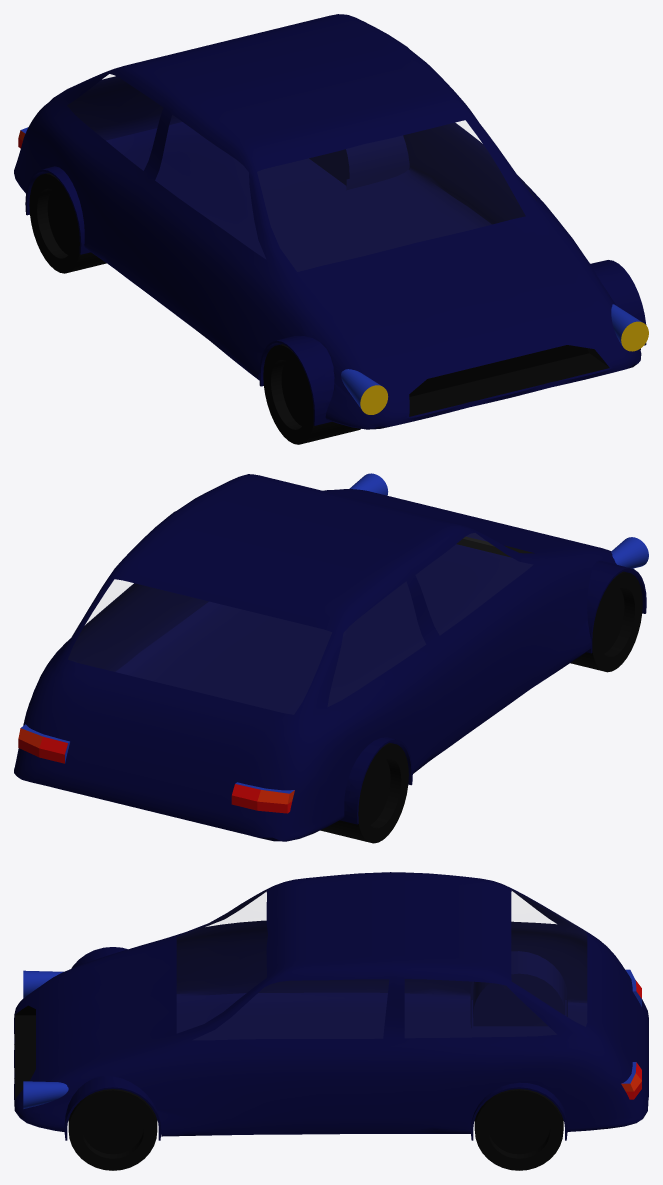
The model's file is Basic_Car_01.obj.
3 views of the same model, one above another, from view 1: azimuth 30°, elevation 25°; view 2: azimuth 150°, elevation 25°; view 3: azimuth 270°, elevation 25° (orthographic). The views are drawn at different scales.
Parts seen in each view (by area): view 1: Car_Body_Cube.001, Car_Tyres_Cylinder.003, Car_Light_F_Cylinder.007; view 2: Car_Body_Cube.001, Car_Tyres_Cylinder.003, Car_Light_B_Cube.006, Car_Light_F_Cylinder.007; view 3: Car_Body_Cube.001, Car_Tyres_Cylinder.003, Car_Light_F_Cylinder.007, Car_Light_B_Cube.006.
Part boxes in pixels (box(x1,y1,x2,y2)): Car_Body_Cube.001: box(14, 14, 646, 429); Car_Tyres_Cylinder.003: box(29, 173, 640, 444); Car_Light_F_Cylinder.007: box(341, 304, 648, 414); Car_Body_Cube.001: box(14, 474, 646, 841); Car_Tyres_Cylinder.003: box(320, 571, 642, 843); Car_Light_B_Cube.006: box(18, 724, 294, 813); Car_Light_F_Cylinder.007: box(349, 473, 648, 568); Car_Body_Cube.001: box(14, 872, 648, 1140); Car_Tyres_Cylinder.003: box(68, 1089, 563, 1170); Car_Light_F_Cylinder.007: box(23, 970, 68, 1108); Car_Light_B_Cube.006: box(621, 969, 641, 1099).
Bounding box in the file's own units: 1.9 × 1.15 × 3.61.
